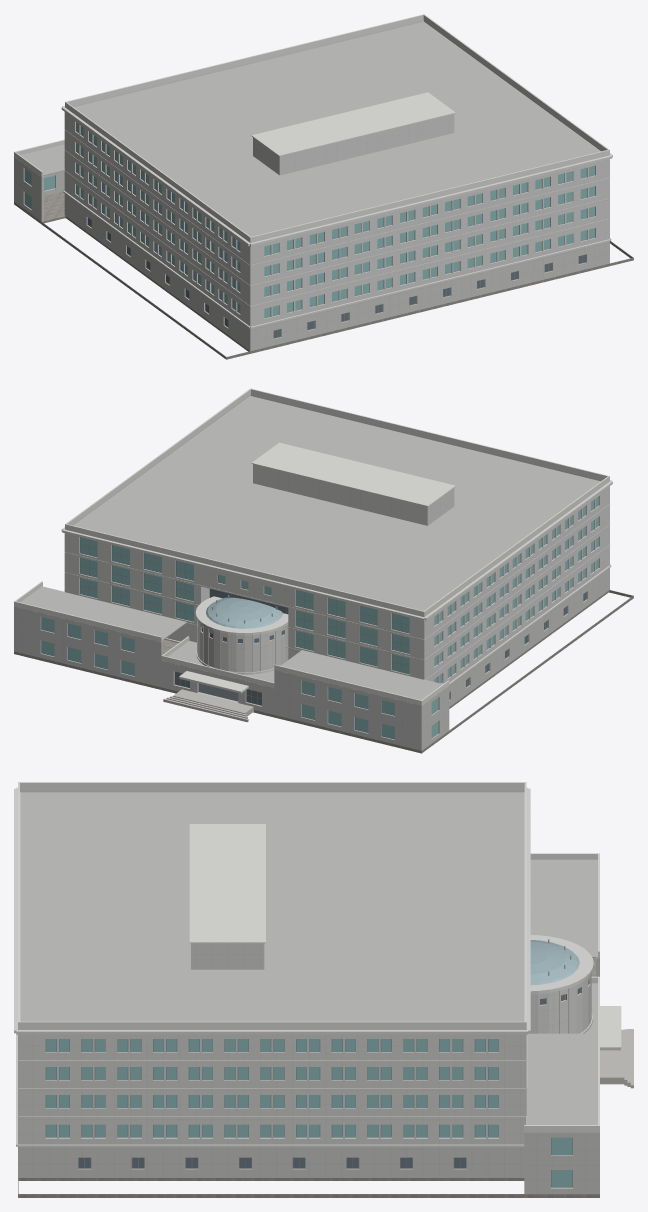
The picture shows the model from 3 angles, top to bottom: view 1: azimuth 30°, elevation 25°; view 2: azimuth 150°, elevation 25°; view 3: azimuth 270°, elevation 25°; orthographic projection. The views are drawn at different scales.
Visible parts, largest first — view 1: library__roof, library__stone, library__podium, library__cap, library__glass, library__trim, library__frame, library__plinth, library__foundation, library__darkglass; view 2: library__roof, library__stone, library__podium, library__cap, library__glass, library__trim, library__drum, library__frame, library__domeglass, library__plinth, library__foundation, library__darkglass (+2 smaller); view 3: library__roof, library__stone, library__cap, library__podium, library__glass, library__trim, library__frame, library__drum, library__foundation, library__plinth, library__domeglass, library__darkglass (+2 smaller).
Part boxes in pixels (left/top/right/bottom): library__roof: left=20, top=22, right=600, bottom=236; library__stone: left=64, top=22, right=609, bottom=326; library__podium: left=14, top=157, right=609, bottom=351; library__cap: left=14, top=14, right=609, bottom=242; library__glass: left=25, top=122, right=594, bottom=317; library__trim: left=61, top=20, right=612, bottom=328; library__frame: left=24, top=126, right=595, bottom=338; library__plinth: left=14, top=191, right=609, bottom=353; library__foundation: left=14, top=202, right=633, bottom=359; library__darkglass: left=88, top=218, right=585, bottom=337; library__roof: left=20, top=396, right=600, bottom=699; library__stone: left=64, top=396, right=609, bottom=683; library__podium: left=14, top=568, right=609, bottom=750; library__cap: left=14, top=388, right=609, bottom=705; library__glass: left=41, top=497, right=598, bottom=738; library__trim: left=61, top=394, right=612, bottom=684; library__drum: left=197, top=620, right=288, bottom=672; library__frame: left=41, top=496, right=598, bottom=739; library__domeglass: left=206, top=597, right=282, bottom=628; library__plinth: left=14, top=590, right=609, bottom=752; library__foundation: left=14, top=590, right=633, bottom=753; library__darkglass: left=175, top=589, right=586, bottom=705; library__roof: left=20, top=792, right=597, bottom=1124; library__stone: left=18, top=792, right=526, bottom=1144; library__cap: left=18, top=782, right=621, bottom=1132; library__podium: left=18, top=957, right=599, bottom=1194; library__glass: left=46, top=1039, right=572, bottom=1187; library__trim: left=14, top=787, right=593, bottom=1147; library__frame: left=45, top=1039, right=572, bottom=1187; library__drum: left=528, top=973, right=591, bottom=1033; library__foundation: left=18, top=1178, right=599, bottom=1197; library__plinth: left=18, top=958, right=599, bottom=1196; library__domeglass: left=530, top=940, right=579, bottom=985; library__darkglass: left=78, top=981, right=588, bottom=1168.
Bounding box in the file's own units: 79.42 × 24.22 × 76.3.
Materials: 17 (6 with a texture image).
